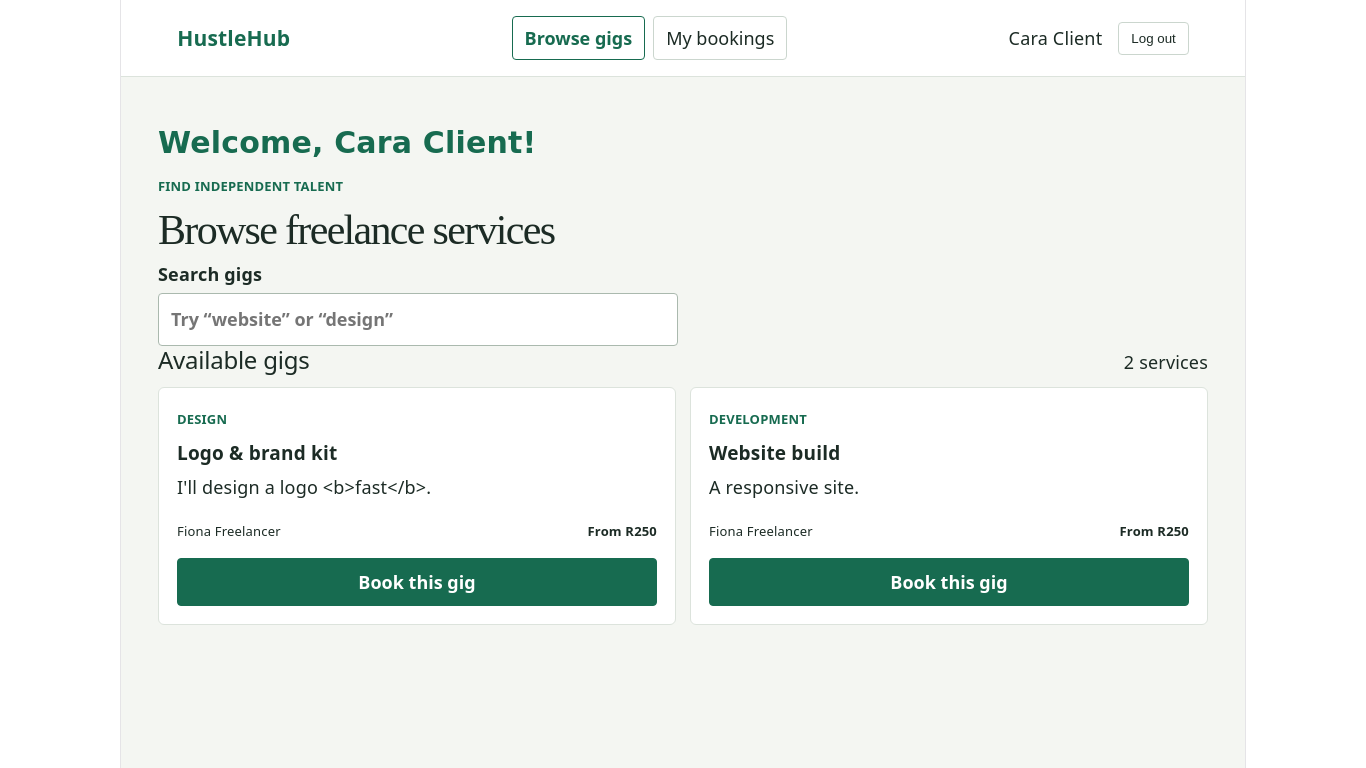
Test: GigBrowser role-based views › search filters the gig list
Check: the text "2 services" is shown, box [1124,349,1208,375]
Type "website" into the search field labelled "Search gigs" at (418, 320), box [158,294,678,346]
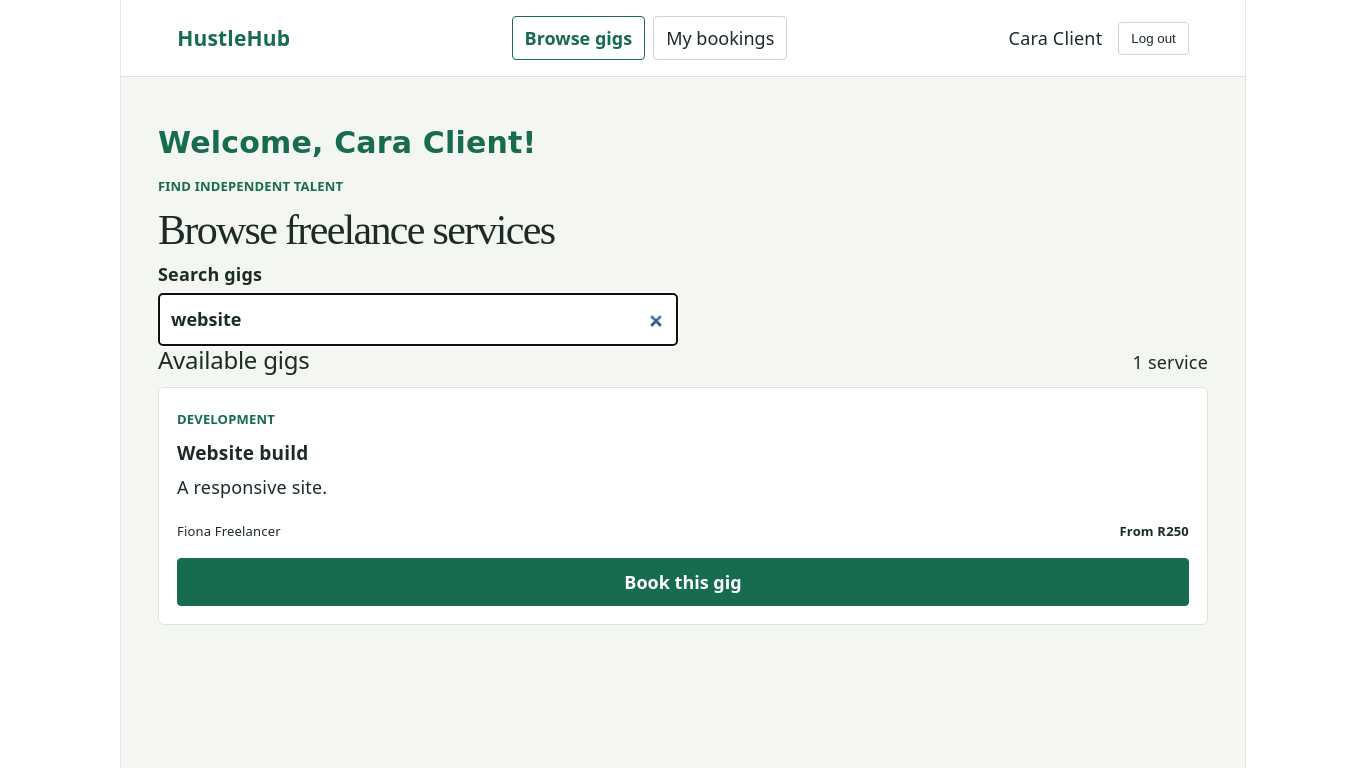
Check: the text "1 service" is shown, box [1133,349,1208,375]
Check: the heading "Logo & brand kit" is gone
